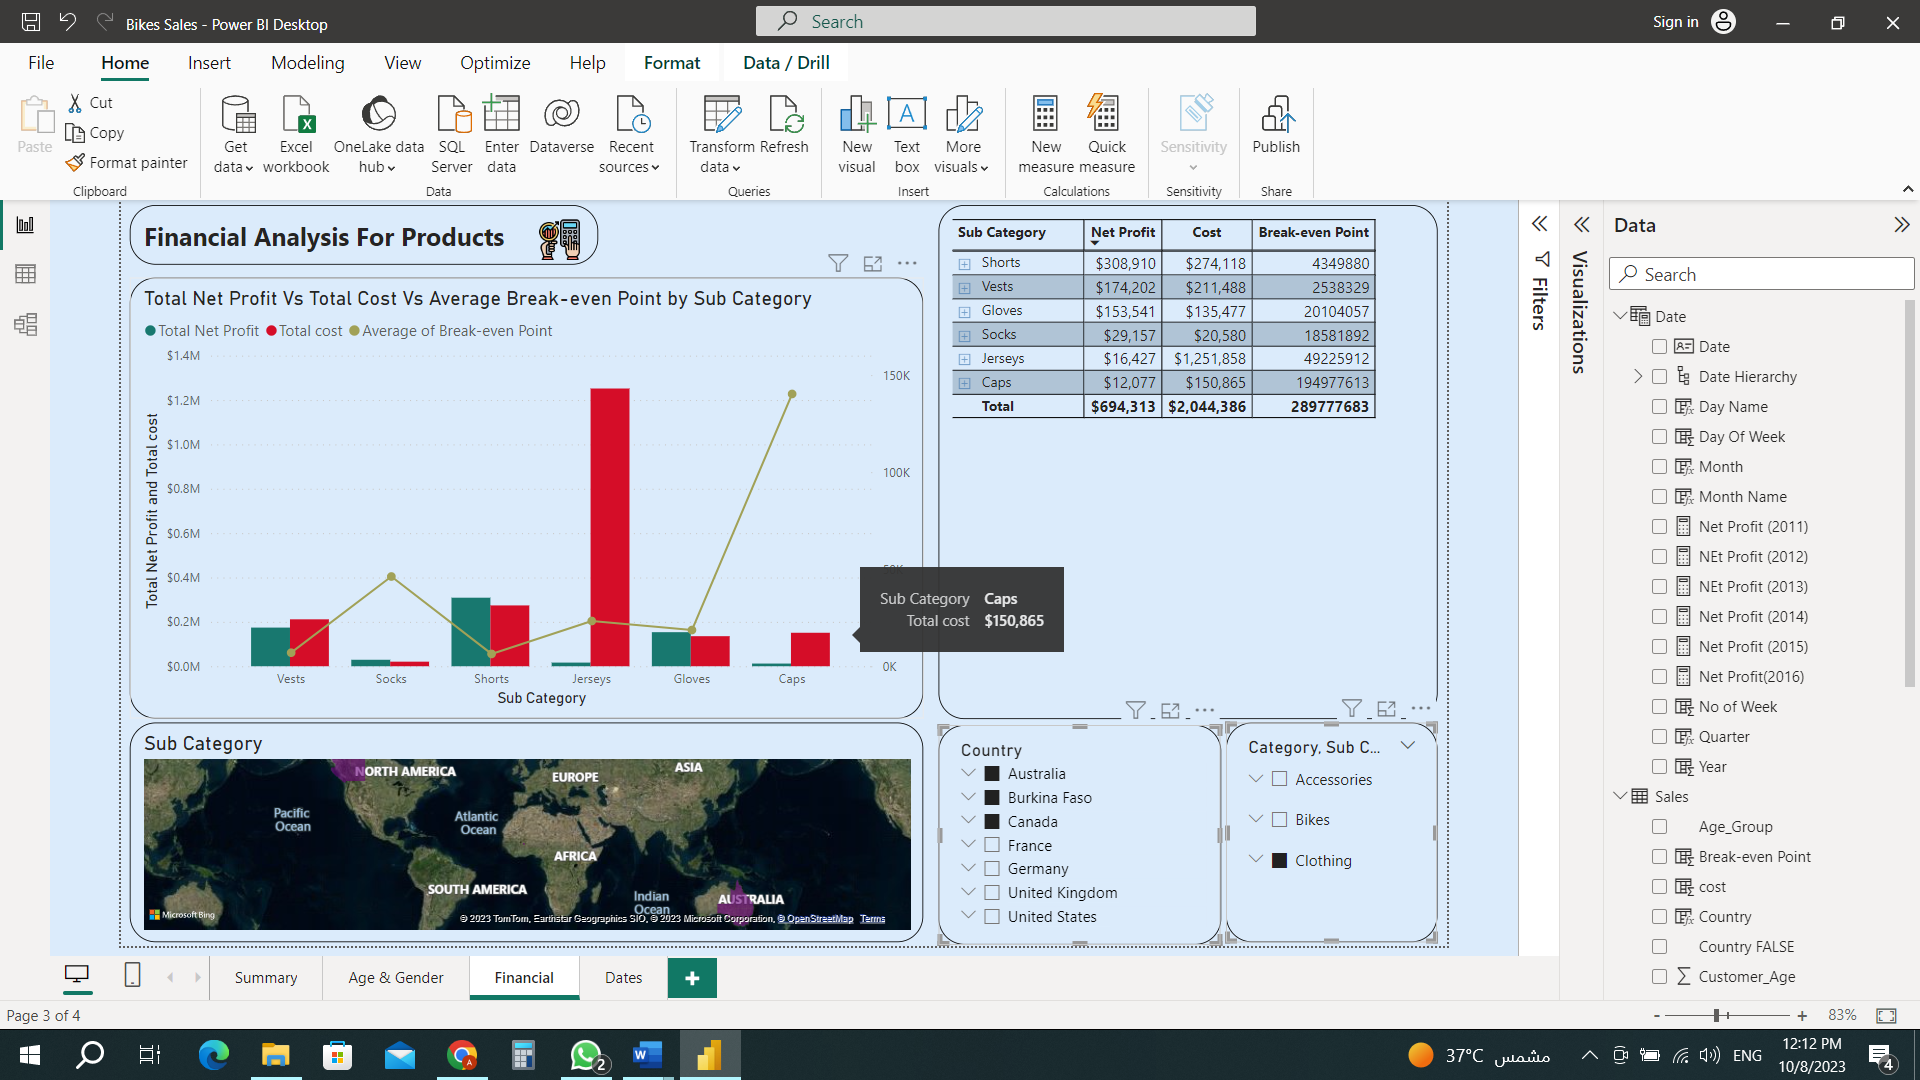

The page's visual inventory and layout, read from the dashboard file:
{"tool":"powerbi","page":{"name":"Financial","canvas":[1280,720],"ordinal":2},"visuals":[{"type":"lineClusteredColumnComboChart","title":"Total Net Profit Vs Total Cost Vs Average Break-even Point by Sub Category","fields":{"Category":["Sales.Sub_Category"],"Y2":["Avg(Sales.Break-even Point)"],"Y":["Sum(Sales.Net Profit)","Sum(Sales.cost)"]},"box":[8.4,74.8,765.8,425.7],"z":0},{"type":"slicer","fields":{"Values":["Sales.Product_Category","Sales.Sub_Category","Sales.Product"]},"box":[1066.1,504.1,203.8,212.3],"z":1000},{"type":"slicer","fields":{"Values":["Sales.Corrected Country","Sales.State"]},"box":[788.7,506.5,272.6,212.3],"z":2000},{"type":"image","box":[1024.3,608,25,25],"z":3000},{"type":"image","box":[1024.3,628,25,25],"z":4000},{"type":"image","box":[1024.3,650,25,25],"z":5000},{"type":"image","box":[1024.3,677,25,25],"z":6000},{"type":"image","box":[1024.3,584,25,25],"z":7000},{"type":"image","box":[1023,536,25,25],"z":8000},{"type":"image","box":[1219.3,583.7,35,35],"z":9000},{"type":"image","box":[1219.3,623.5,35,33.8],"z":10000},{"type":"image","box":[1219.3,545.1,35,30.2],"z":11000},{"type":"textbox","box":[8.4,5,452,57.9],"z":12000},{"type":"image","box":[398,13.3,49.4,49.4],"z":13000},{"type":"image","box":[1024,560,25,25],"z":17000},{"type":"pivotTable","fields":{"Rows":["Sales.Sub_Category","Sales.Product"],"Values":["Sum(Sales.Net Profit)","Sum(Sales.cost)","Sum(Sales.Break-even Point)"]},"box":[788.7,4.8,481.2,495.7],"z":18000},{"type":"filledMap","title":" Sub Category","fields":{"Category":["Sales.State"],"Series":["Sales.Sub_Category"]},"box":[8.4,504.1,765.8,212.3],"z":19000}]}

Visuals, with their boxes on the page's 1280x720 design canvas (x1, y1, x2, y2). These are canvas units, not pixel positions in the 1920x1080 screenshot, which may show the page scaled, cropped or inside an application window:
"Total Net Profit Vs Total Cost Vs Average Break-even Point by Sub Category" lineClusteredColumnComboChart: 8,75,774,500
slicer - Sales.Product_Category x Sales.Sub_Category: 1066,504,1270,716
slicer - Sales.Corrected Country x Sales.State: 789,506,1061,719
image: 1024,608,1049,633
image: 1024,628,1049,653
image: 1024,650,1049,675
image: 1024,677,1049,702
image: 1024,584,1049,609
image: 1023,536,1048,561
image: 1219,584,1254,619
image: 1219,624,1254,657
image: 1219,545,1254,575
textbox: 8,5,460,63
image: 398,13,447,63
image: 1024,560,1049,585
pivotTable - Sales.Sub_Category x Sales.Product: 789,5,1270,500
" Sub Category" filledMap: 8,504,774,716
